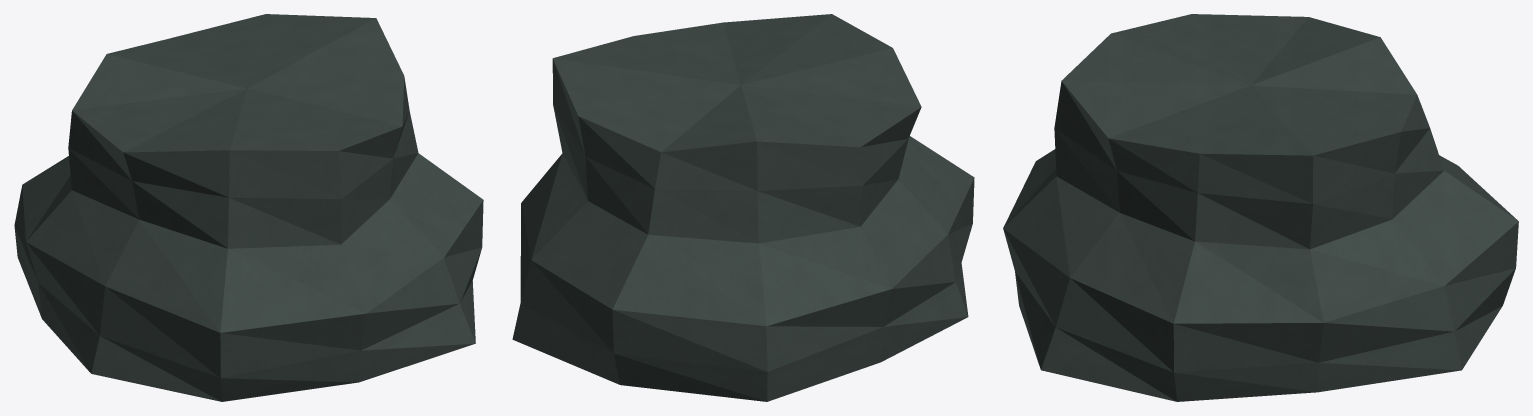
3 renders of one model, left to right at view 1: azimuth 30°, elevation 25°; view 2: azimuth 150°, elevation 25°; view 3: azimuth 270°, elevation 25°, orthographic. The views are drawn at different scales.
Visible parts, largest first — view 1: 破岩形状与干湿色尺寸族; view 2: 破岩形状与干湿色尺寸族; view 3: 破岩形状与干湿色尺寸族.
Part boxes in pixels (x1,y1,x2,y2): 破岩形状与干湿色尺寸族: (14, 14, 483, 401); 破岩形状与干湿色尺寸族: (512, 14, 974, 401); 破岩形状与干湿色尺寸族: (1003, 14, 1518, 401).
Size of the model in its own units: 3.37 by 2.03 by 3.71.
Materials: 2 (2 with a texture image).
